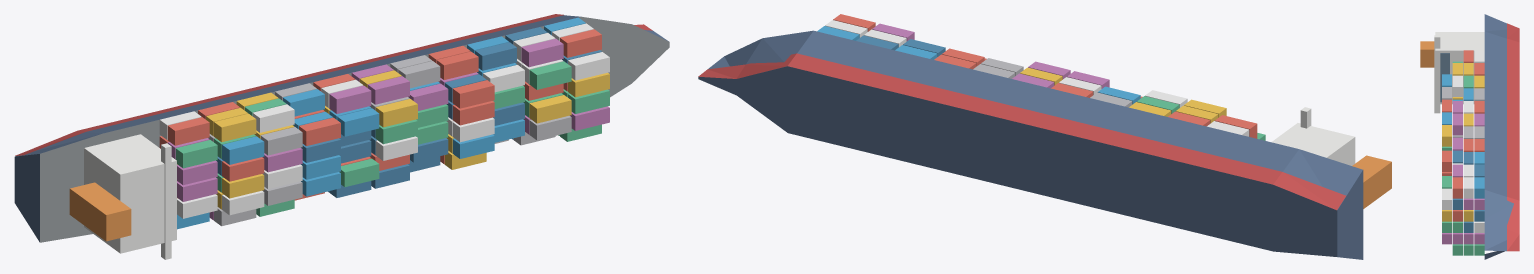
File: ship.glb
3 renders of one model, left to right at view 1: azimuth 30°, elevation 25°; view 2: azimuth 150°, elevation 25°; view 3: azimuth 270°, elevation 25°, orthographic. The views are drawn at different scales.
Parts seen in each view (by area): view 1: container_ship; view 2: container_ship; view 3: container_ship.
Part boxes in pixels (box(x1,y1,x2,y2)): container_ship: box(14, 14, 669, 259); container_ship: box(698, 14, 1391, 259); container_ship: box(1420, 14, 1519, 259).
Bounding box in the file's own units: 1 × 0.17 × 0.201.
